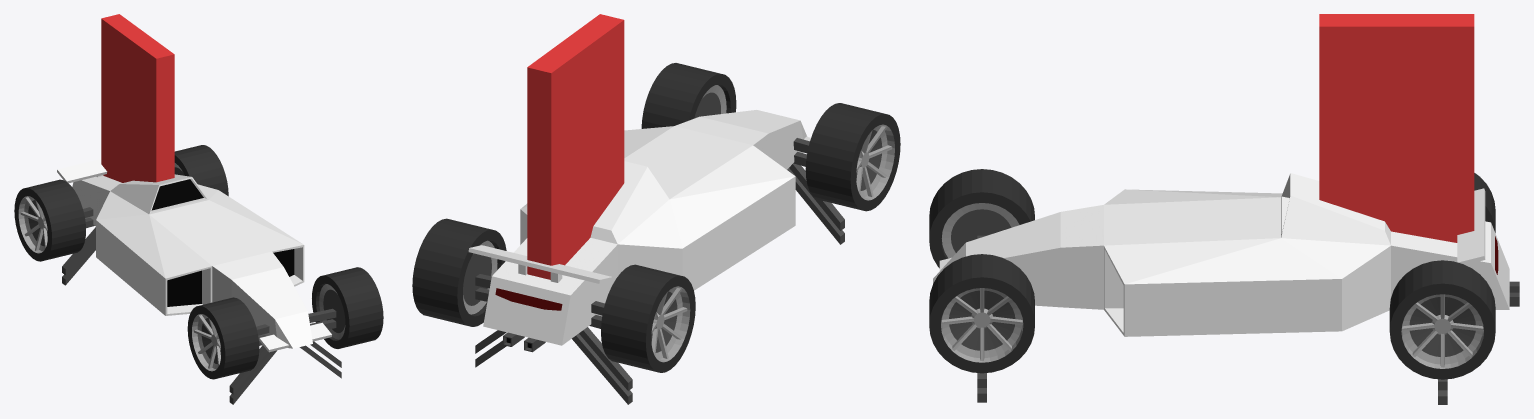
File: car.glb
3 views of the same model, side by side, from view 1: azimuth 30°, elevation 25°; view 2: azimuth 150°, elevation 25°; view 3: azimuth 270°, elevation 25° (orthographic). The views are drawn at different scales.
Visible parts, largest first — view 1: Body, Cube, WheelBR, WheelFR, WheelFL, WheelBL, SuspensionFR, Suspension, SuspensionBR, SuspensionFL; view 2: Body, Cube, WheelBR, WheelFR, WheelBL, WheelFL, SuspensionBR, SuspensionFR, Suspension, SuspensionBL; view 3: Body, Cube, WheelBL, WheelFL, WheelFR, WheelBR.
Boxes of the visible parts, box(x1,y1,x2,y2) form: Body: box(57, 159, 331, 352); Cube: box(101, 14, 174, 182); WheelBR: box(14, 179, 85, 261); WheelFR: box(187, 297, 259, 379); WheelFL: box(312, 267, 383, 348); WheelBL: box(174, 145, 228, 196); SuspensionFR: box(229, 345, 276, 404); Suspension: box(83, 207, 336, 345); SuspensionBR: box(62, 227, 95, 285); SuspensionFL: box(299, 341, 341, 378); Body: box(468, 110, 810, 352); Cube: box(527, 14, 624, 279); WheelBR: box(601, 264, 695, 372); WheelFR: box(805, 103, 900, 211); WheelBL: box(412, 218, 506, 326); WheelFL: box(641, 63, 736, 128); SuspensionBR: box(572, 327, 632, 404); SuspensionFR: box(787, 163, 844, 244); Suspension: box(475, 138, 809, 328); SuspensionBL: box(475, 330, 506, 367); Body: box(933, 173, 1519, 336); Cube: box(1319, 14, 1474, 242); WheelBL: box(1389, 260, 1495, 379); WheelFL: box(929, 254, 1034, 373); WheelFR: box(929, 169, 1034, 268); WheelBR: box(1474, 173, 1495, 232).
Size of what is drawn, in the model's own units: 1.79 by 2.38 by 3.69.
